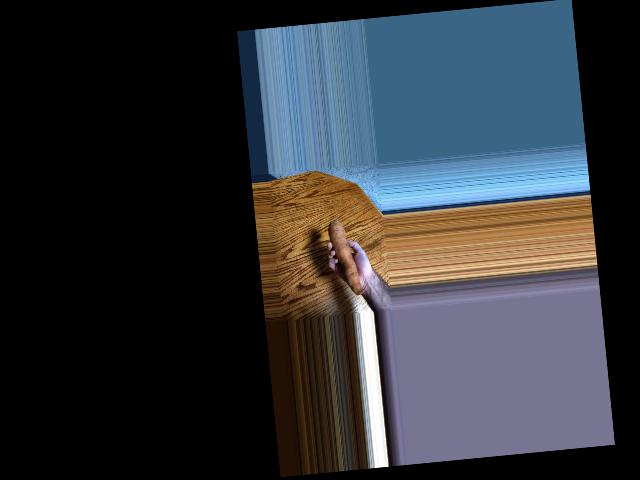sweet_potato: (325, 216, 361, 294)
